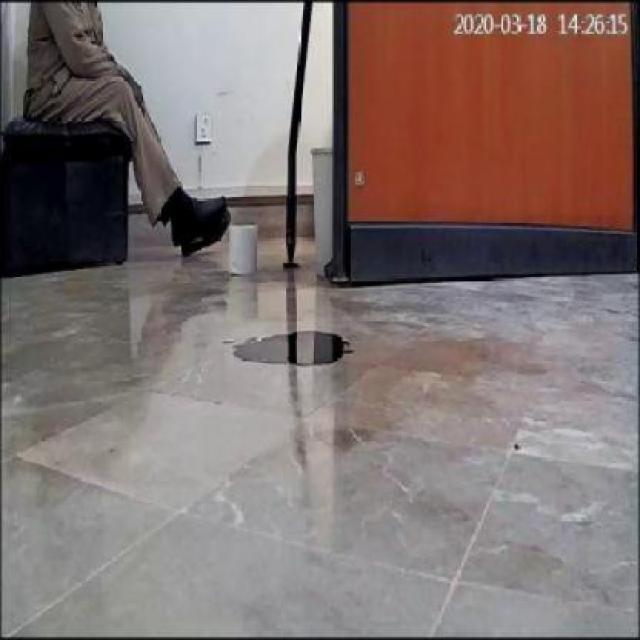spillage: (212, 325, 348, 367)
